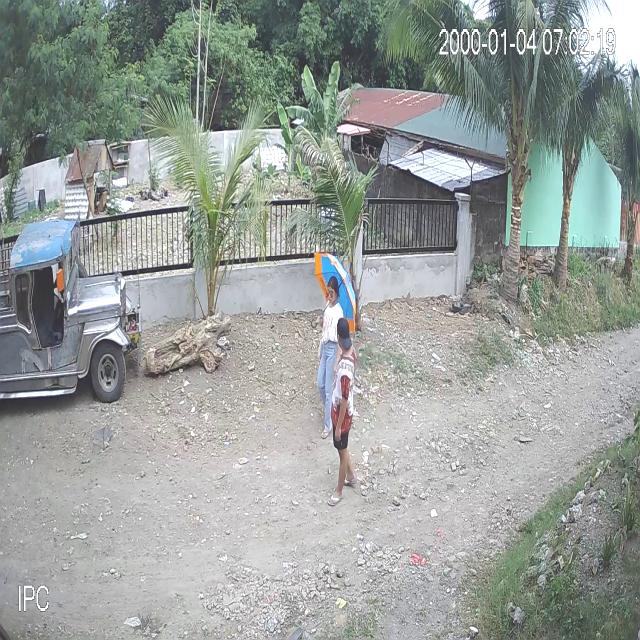walking: (309, 247, 362, 441), (326, 313, 359, 508)
